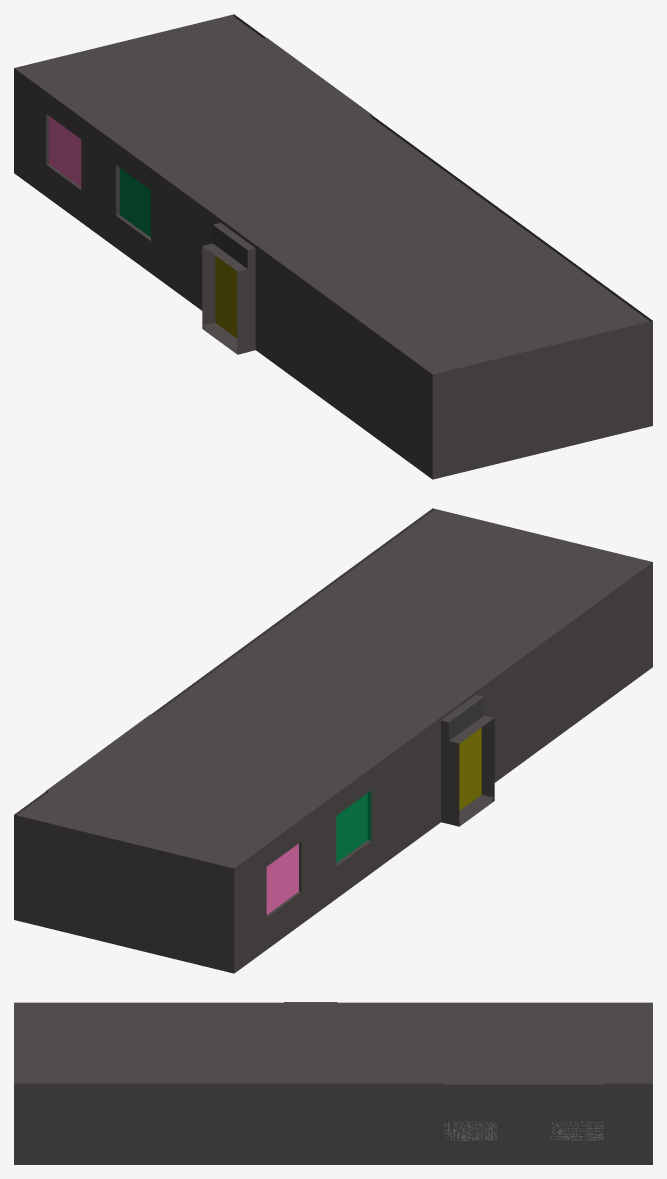
Rendered from lel 1.fbx.
3 views of the same model, one above another, from view 1: azimuth 30°, elevation 25°; view 2: azimuth 150°, elevation 25°; view 3: azimuth 270°, elevation 25° (orthographic). The views are drawn at different scales.
Visible parts, largest first — view 1: Cube; view 2: Cube; view 3: Cube.
Part boxes in pixels (x1=…): Cube: x1=14, y1=14, x2=652, y2=479; Cube: x1=14, y1=508, x2=652, y2=973; Cube: x1=14, y1=1002, x2=652, y2=1164.
Size of the model in its own units: 652 by 274 by 1975.
